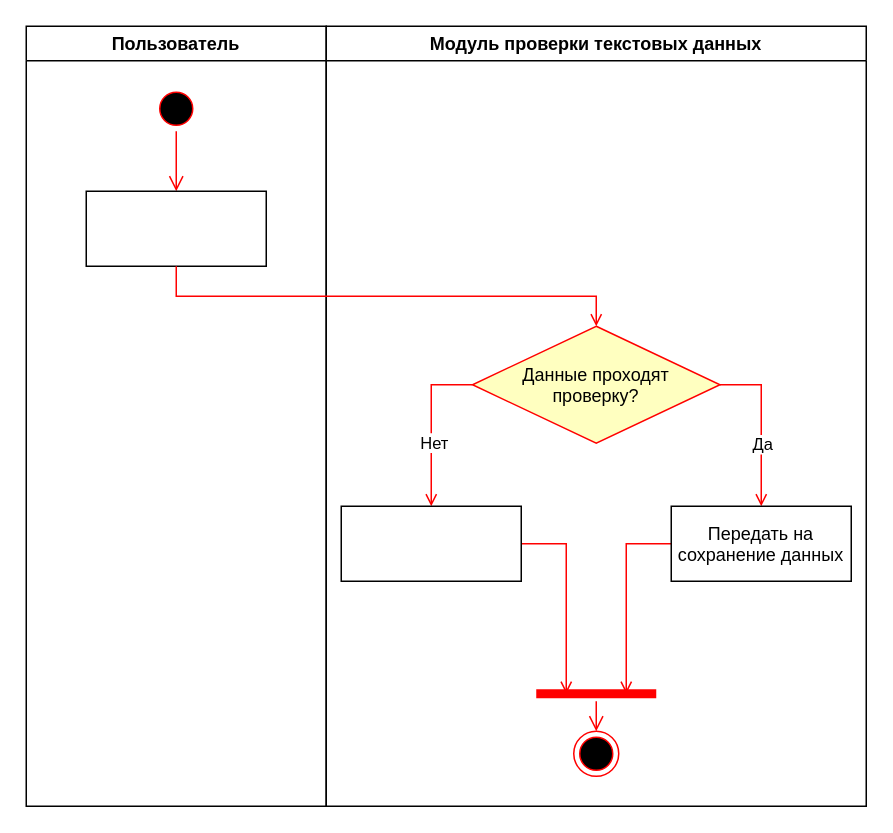
The diagram is 893 pixels wide and 833 high, and some of its shapes have lost their labels. Here are the shapes that lost their labels. From the top down, the centre of each, then its label:
[175,228]: Ввод данных
[430,543]: Отобразить "Данные введены неверно"
